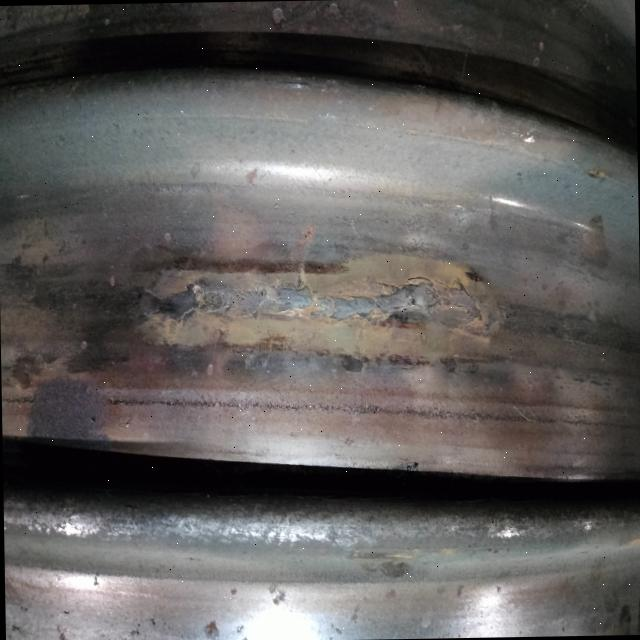flat: (117, 257, 496, 356)
